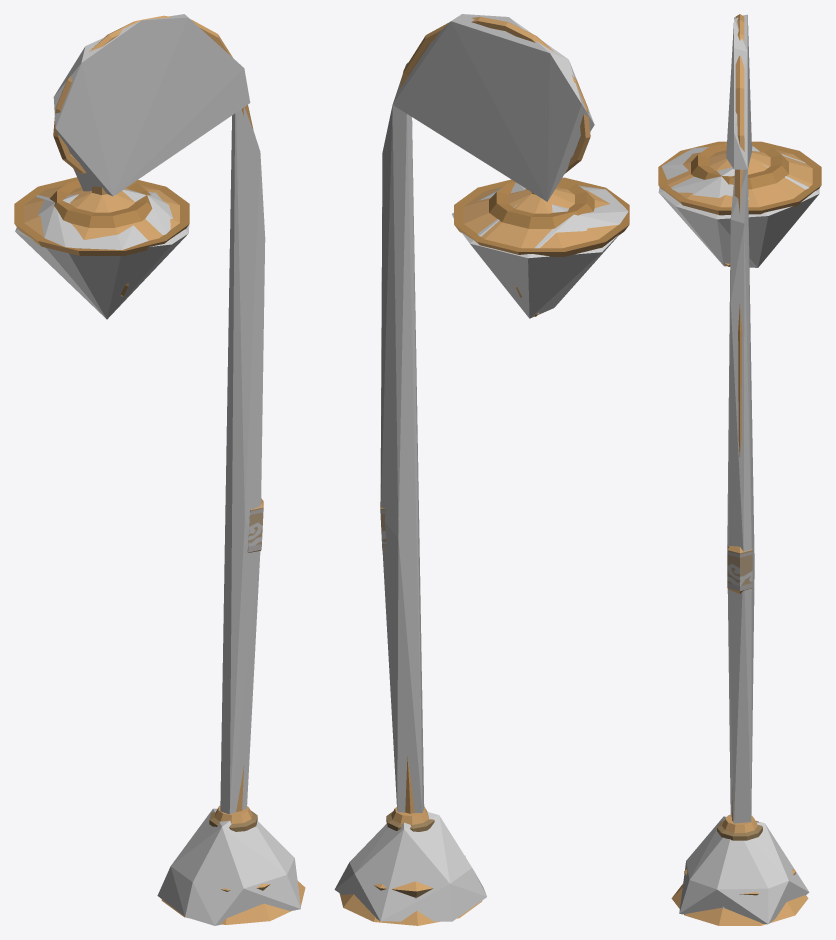
File: SM_Prop_Lamp_Post_01.fbx
3 views of the same model, side by side, from view 1: azimuth 30°, elevation 25°; view 2: azimuth 150°, elevation 25°; view 3: azimuth 270°, elevation 25° (orthographic). The views are drawn at different scales.
Visible parts, largest first — view 1: SM_Prop_Lamp_Post_01_ConvexHulls, SM_Prop_Lamp_Post_01; view 2: SM_Prop_Lamp_Post_01_ConvexHulls, SM_Prop_Lamp_Post_01; view 3: SM_Prop_Lamp_Post_01_ConvexHulls, SM_Prop_Lamp_Post_01.
Part boxes in pixels (<box>): SM_Prop_Lamp_Post_01_ConvexHulls: <box>15,14,300,925</box>; SM_Prop_Lamp_Post_01: <box>14,15,305,924</box>; SM_Prop_Lamp_Post_01_ConvexHulls: <box>334,14,628,921</box>; SM_Prop_Lamp_Post_01: <box>339,16,629,925</box>; SM_Prop_Lamp_Post_01_ConvexHulls: <box>658,14,819,924</box>; SM_Prop_Lamp_Post_01: <box>658,14,821,925</box>.
Bounding box in the file's own units: 178 × 101 × 571.
2 materials, 1 textured.
